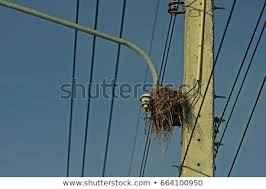bird-nest: (143, 86, 188, 125)
